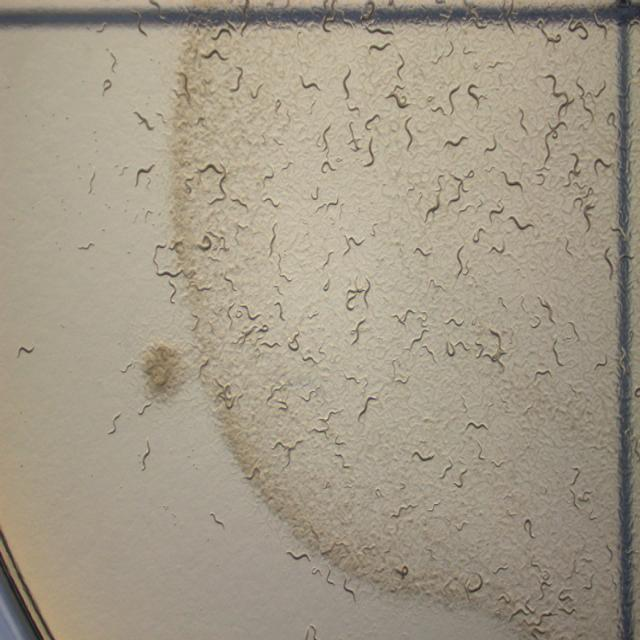filarid: (475, 327, 508, 373), (405, 325, 428, 350), (445, 339, 470, 357), (461, 419, 489, 435), (278, 254, 292, 282), (139, 439, 151, 470), (392, 309, 416, 324), (108, 410, 121, 435), (456, 244, 464, 278), (455, 467, 468, 487), (210, 512, 225, 529), (421, 344, 436, 361), (120, 360, 139, 373), (275, 300, 286, 321), (412, 450, 435, 460), (440, 460, 452, 479), (269, 224, 276, 256), (289, 330, 300, 350), (138, 400, 151, 415), (430, 277, 445, 289), (446, 317, 464, 327), (18, 345, 34, 356), (490, 242, 505, 253), (414, 247, 431, 256), (482, 404, 492, 417), (478, 442, 485, 460), (325, 250, 334, 264), (322, 277, 330, 290), (462, 399, 468, 413), (499, 297, 506, 308), (309, 311, 318, 319), (274, 284, 279, 289)
